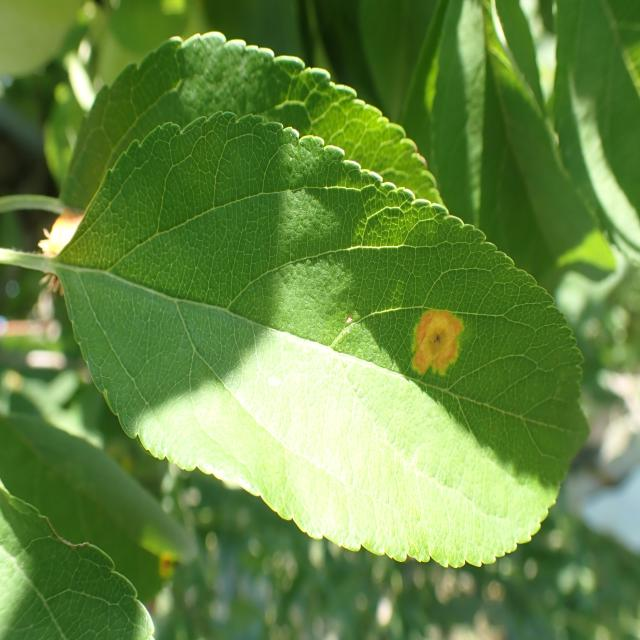Rust: (391, 293, 472, 402)
